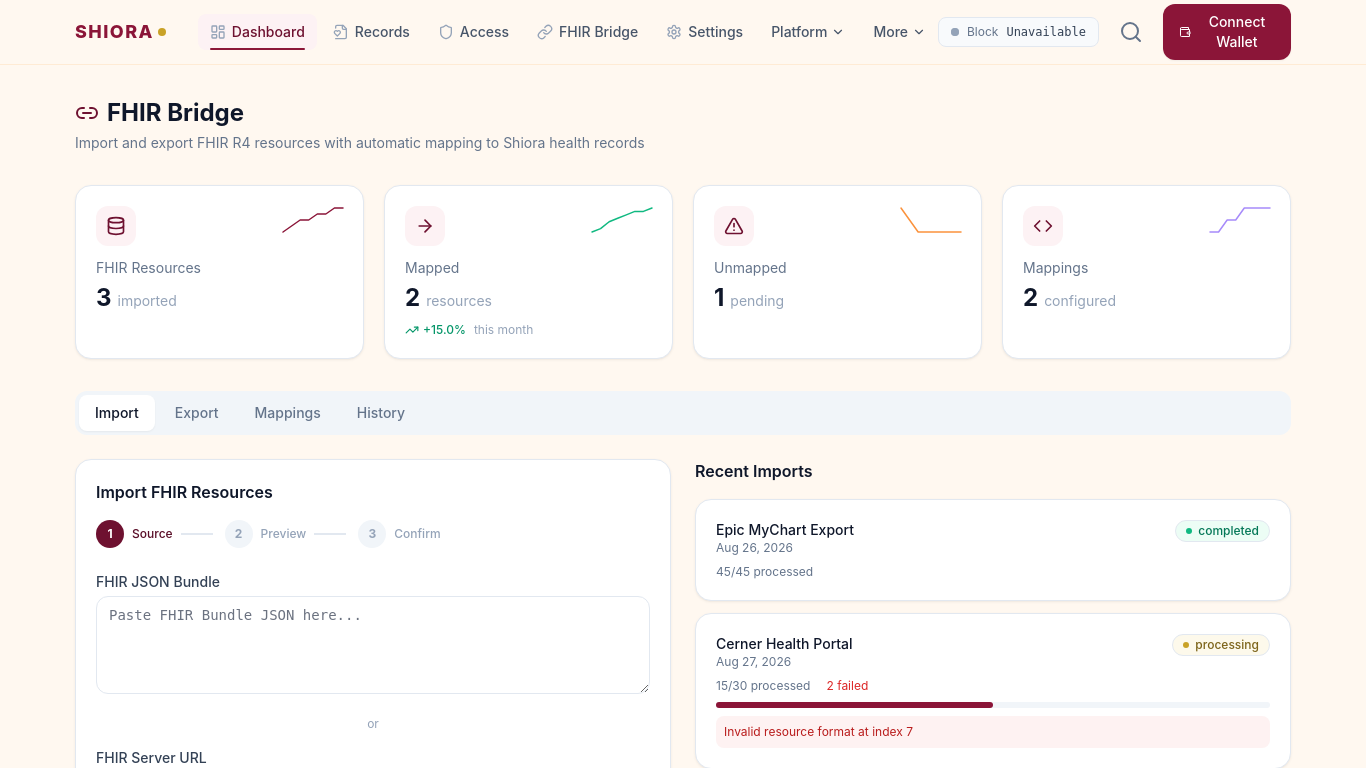
FHIRBridgePage › switches to Export tab
Click the tab "Export". click: (197, 413)
box: top-left (159, 395), bottom-right (235, 431)
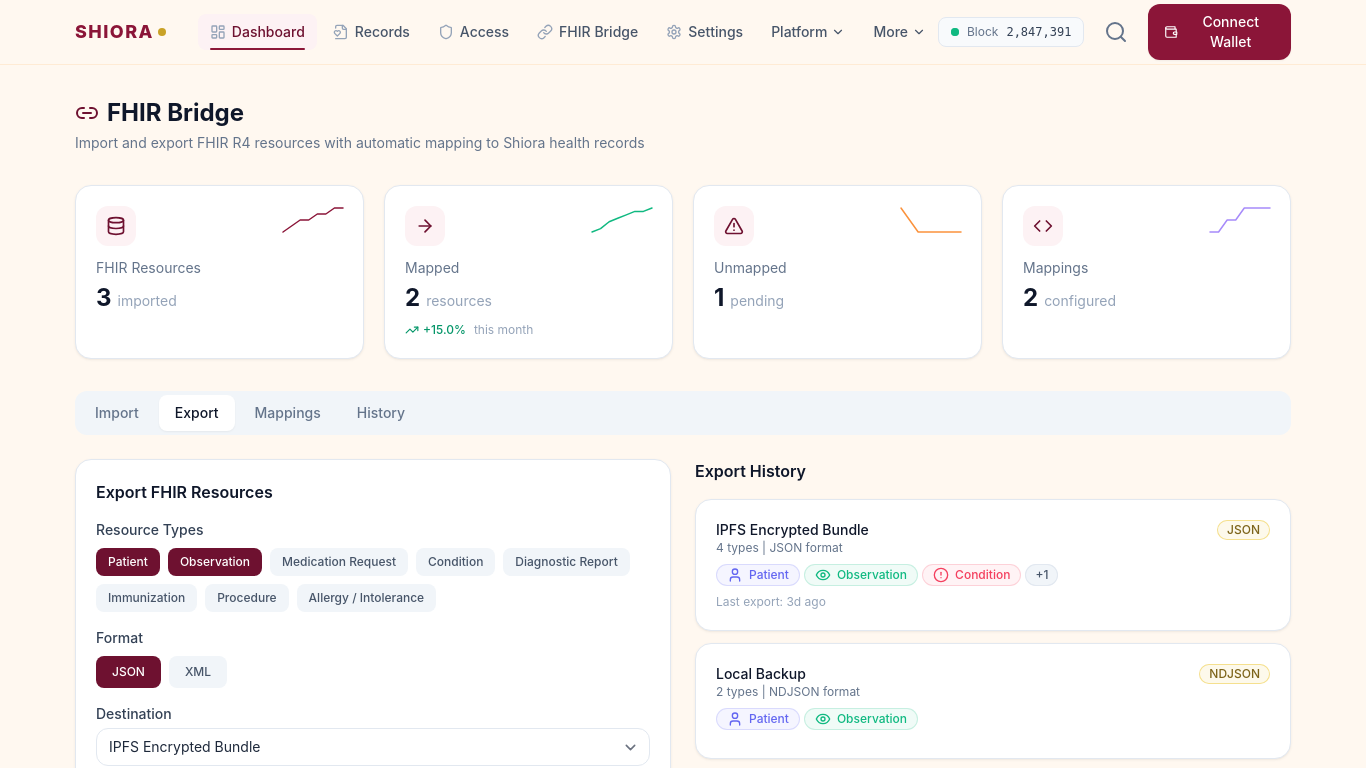
Expected: the heading "Export History" is shown, top-left (695, 461), bottom-right (806, 481)
